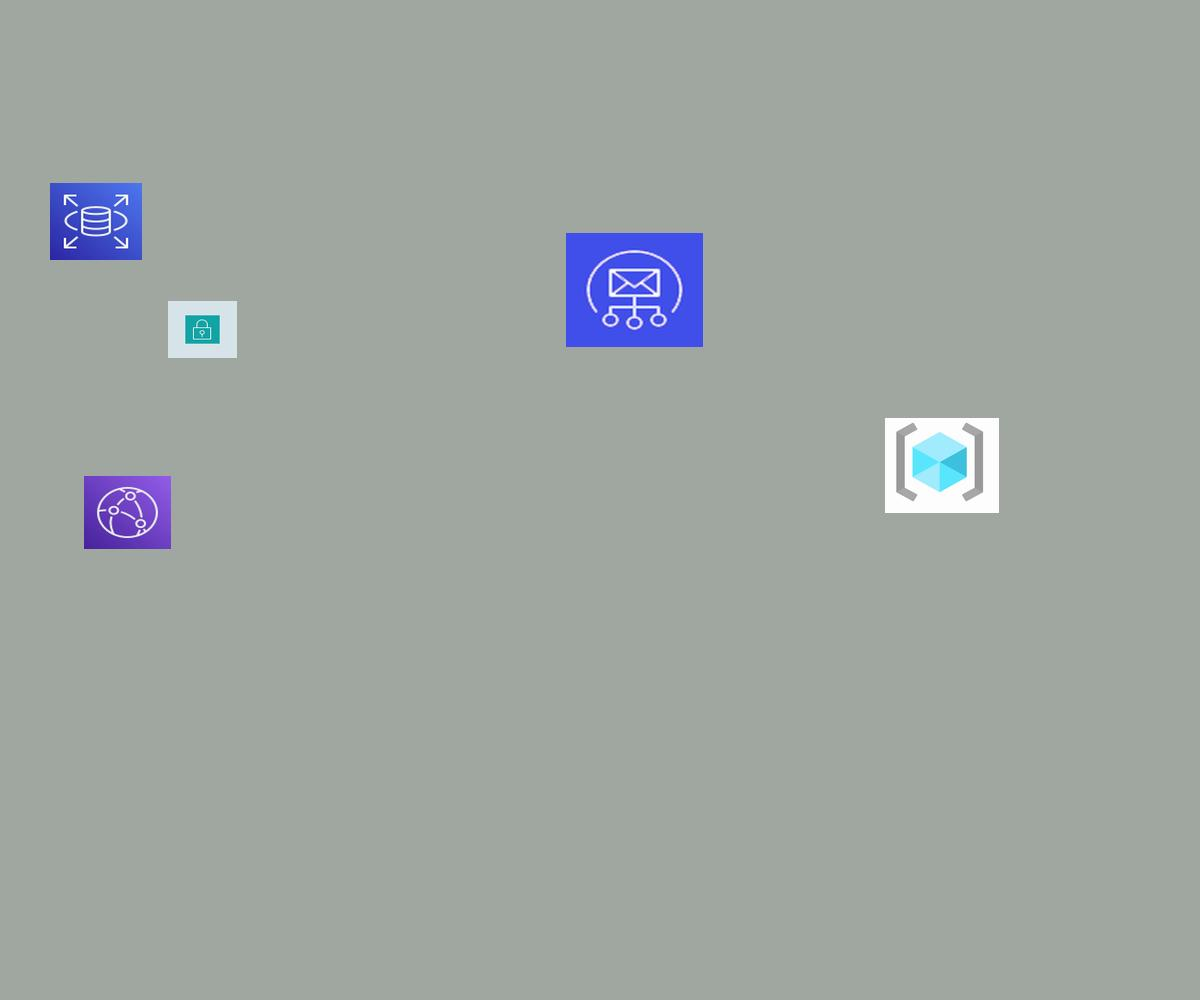AWS-CloudFront: (84, 476, 171, 549)
AWS-Private-subnet: (168, 301, 237, 358)
AWS-RDS: (50, 183, 142, 260)
AWS-Simple-Email-Service: (566, 233, 703, 347)
Azure_resource_group: (885, 418, 999, 513)
